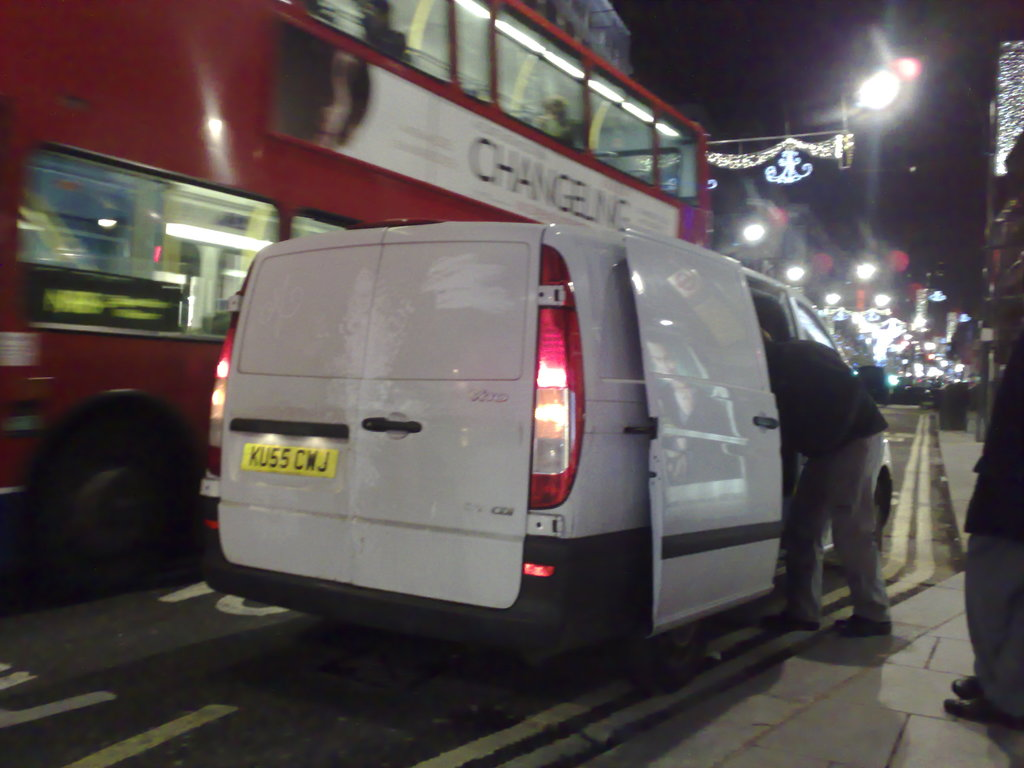license plate: (245, 441, 338, 472)
